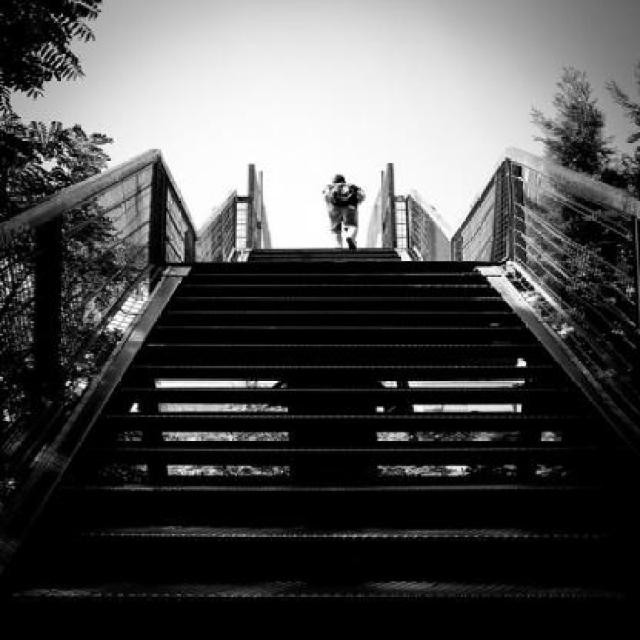stair: (121, 257, 537, 609)
